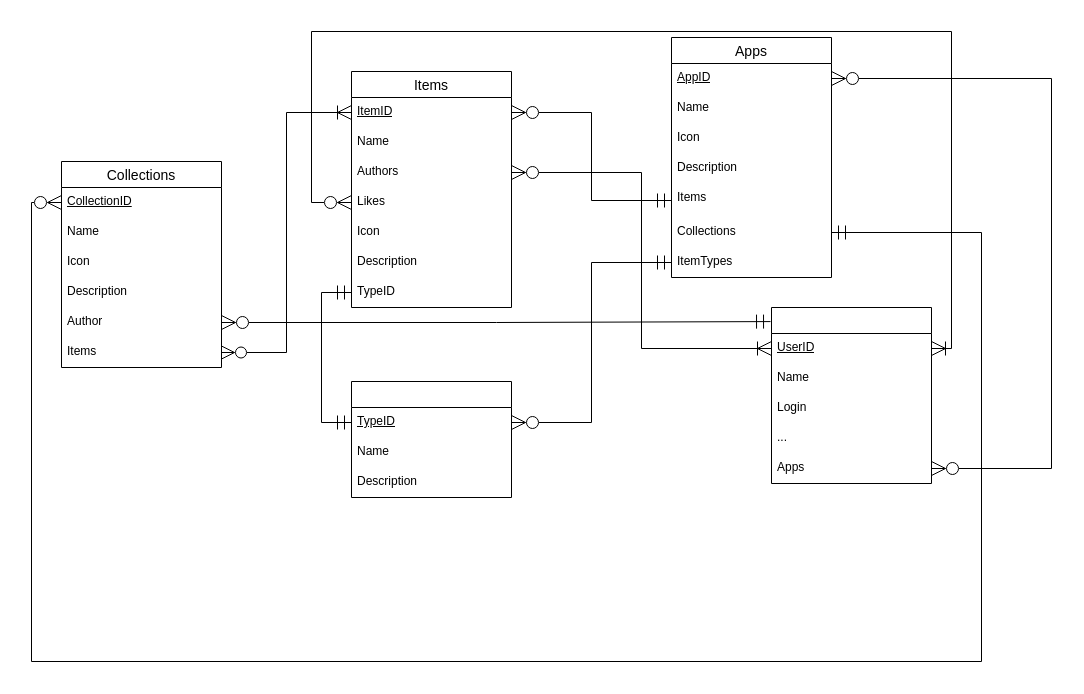
This 1084x694 diagram has some shape labels left out. The box of each missing label's shape, as (x1, y1, x2, y2) in pixels:
ItemType: (350, 380, 512, 498)
Users: (770, 306, 932, 484)
